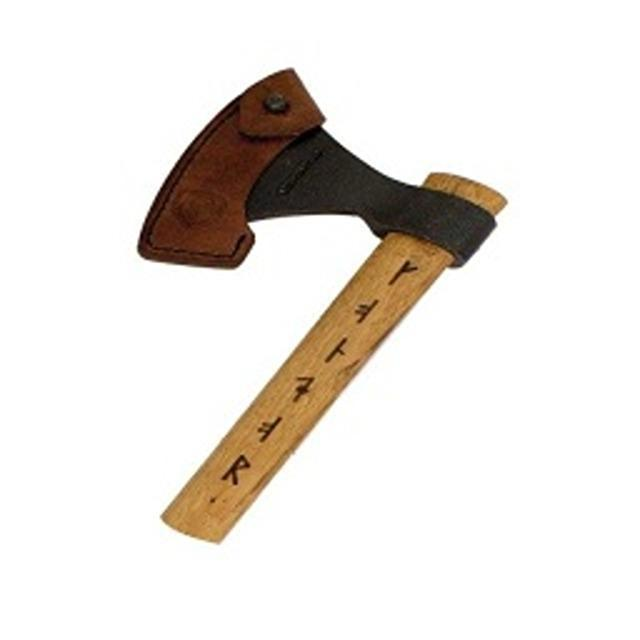ax: (128, 56, 520, 562)
